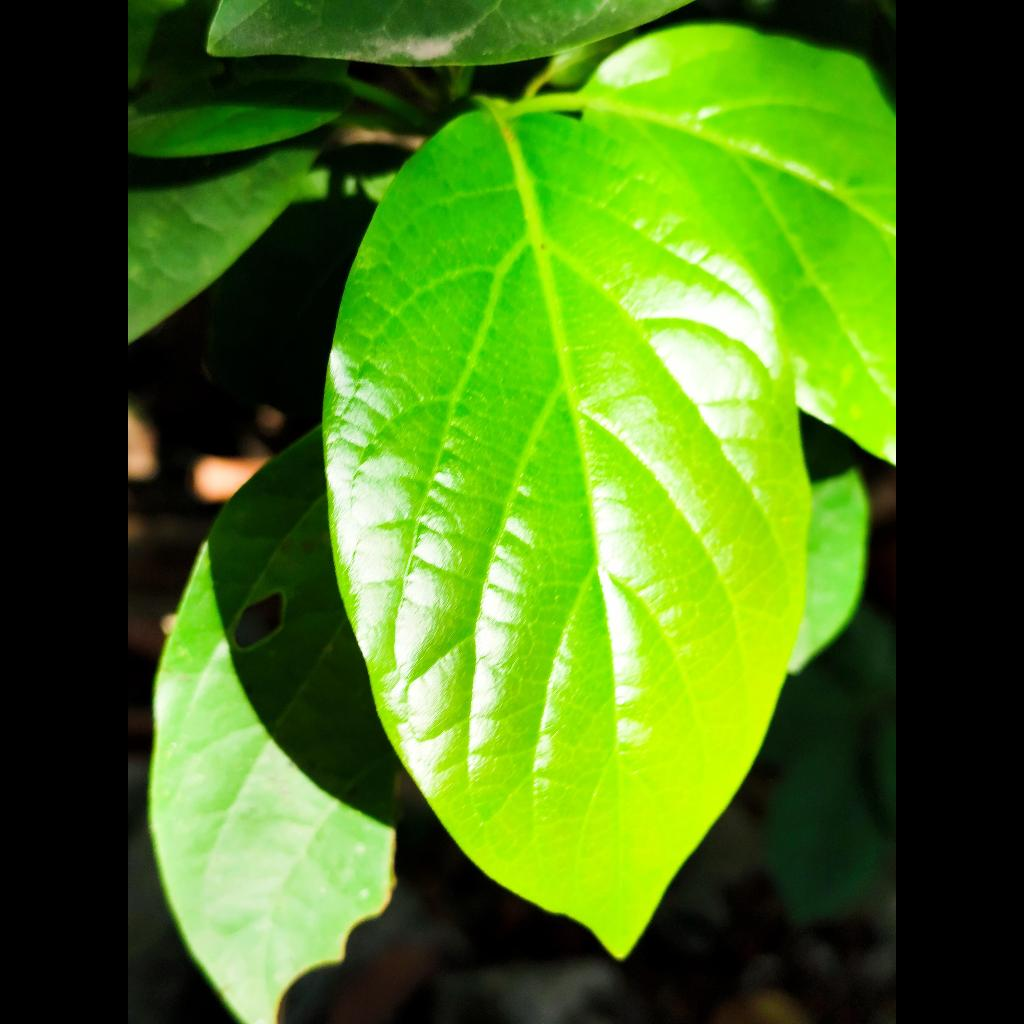Healthy: (324, 24, 896, 956)
